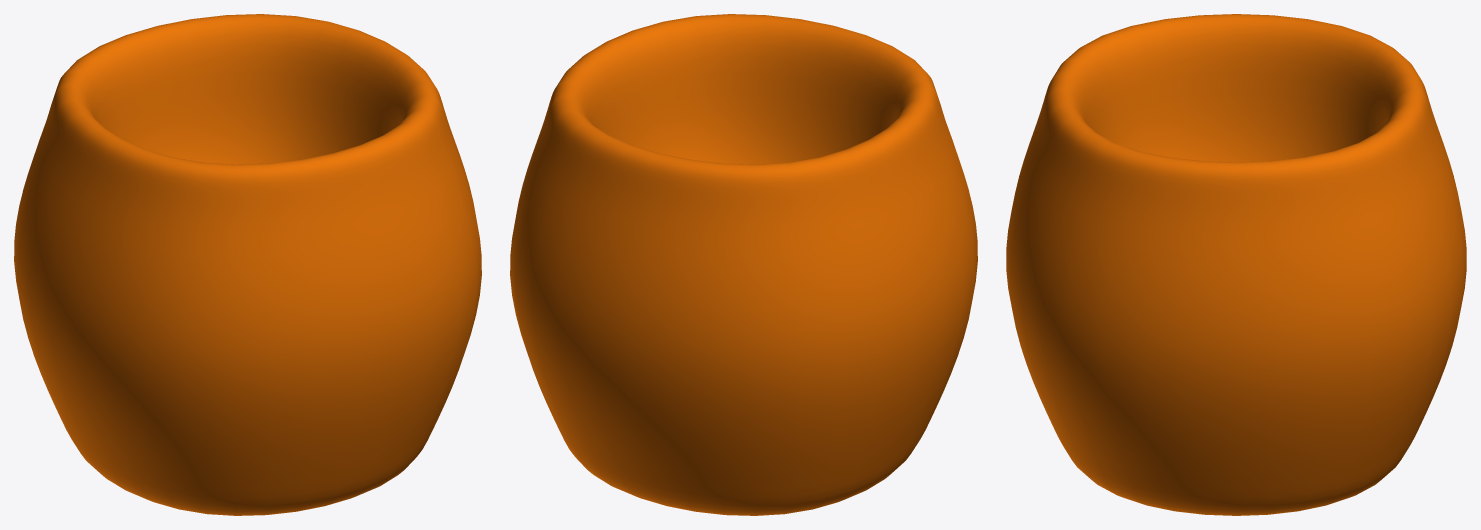
Rendered from MacetaVerano2.fbx.
3 renders of one model, left to right at view 1: azimuth 30°, elevation 25°; view 2: azimuth 150°, elevation 25°; view 3: azimuth 270°, elevation 25°, orthographic.
Parts seen in each view (by area): view 1: Cube.024; view 2: Cube.024; view 3: Cube.024.
Part boxes in pixels (<box>): Cube.024: <box>14,14,481,515</box>; Cube.024: <box>510,14,977,515</box>; Cube.024: <box>1006,14,1466,515</box>.
Size of the model in its own units: 31.43 by 28.21 by 31.43.
